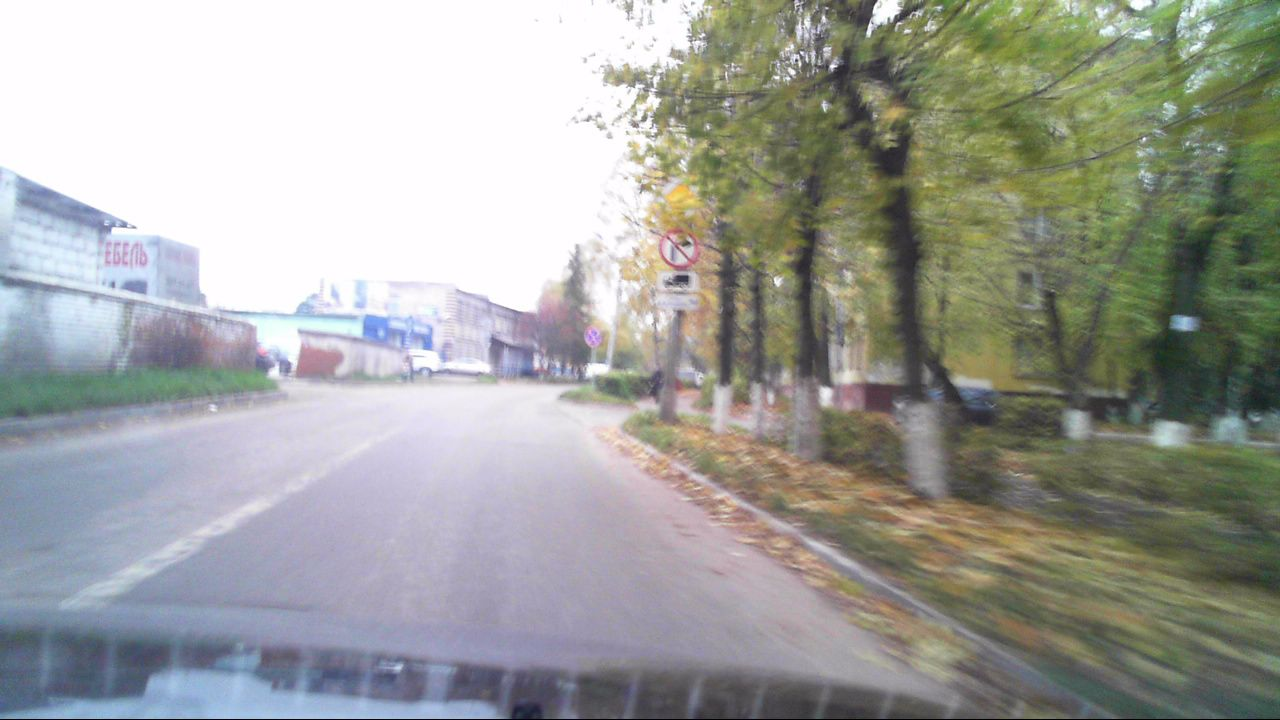No Parking: (583, 325, 601, 348)
